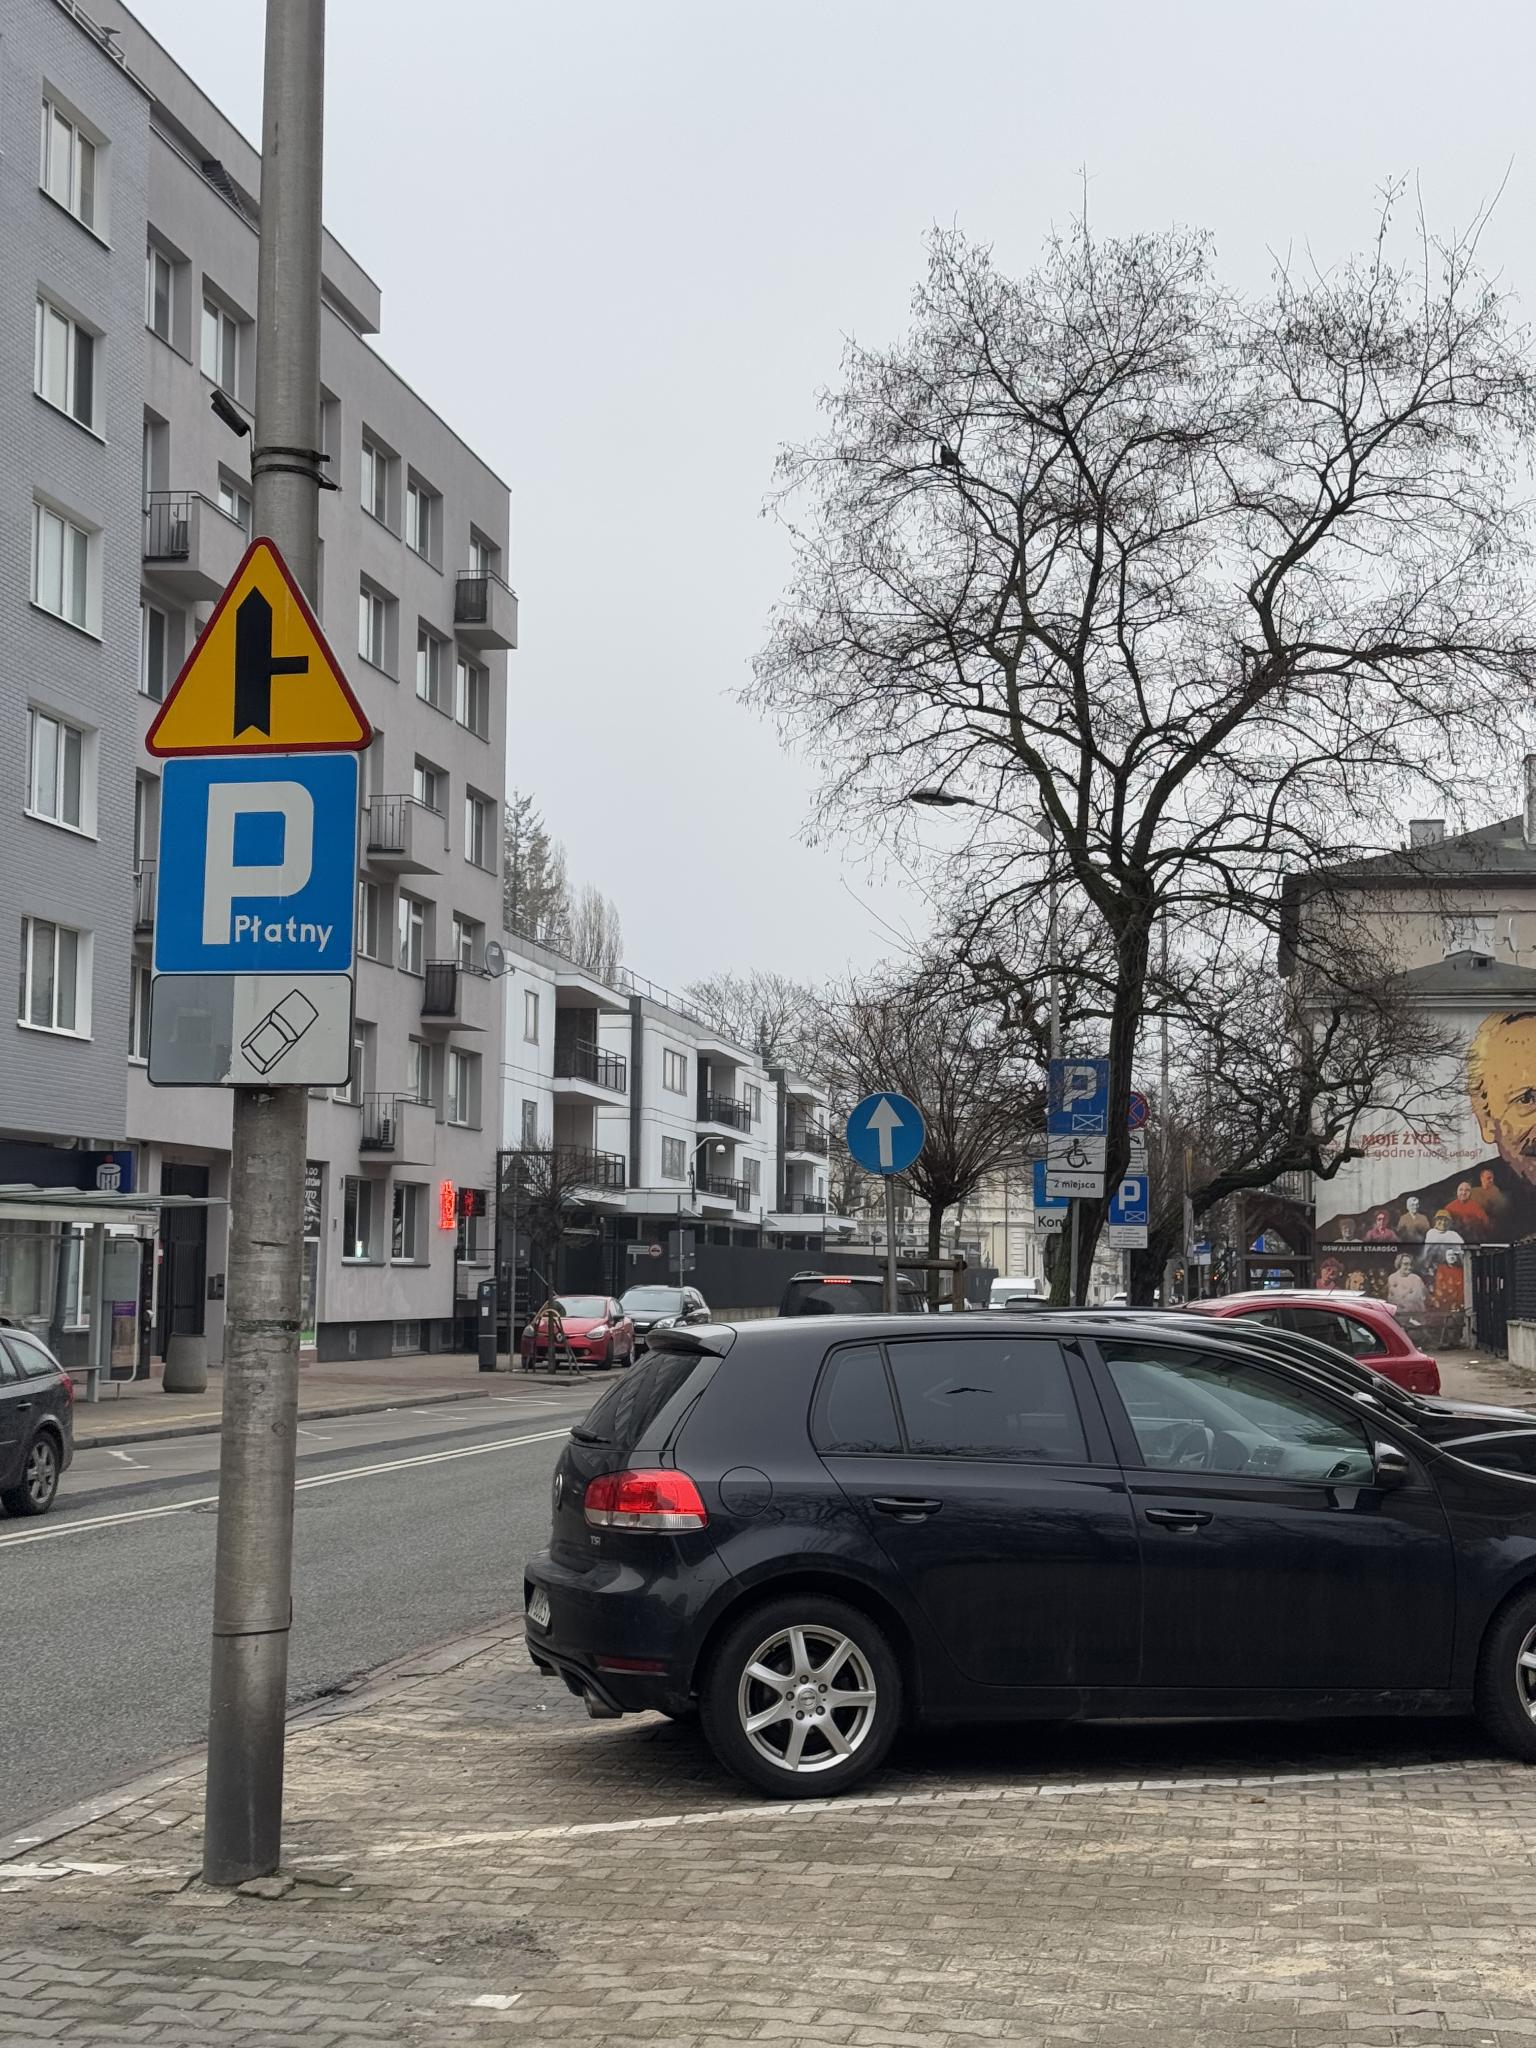information: (153, 755, 363, 972), (1047, 1058, 1108, 1135), (1108, 1176, 1149, 1224)
mandatory: (845, 1092, 928, 1177)
other: (147, 972, 360, 1087), (1046, 1135, 1107, 1172), (1046, 1172, 1105, 1198), (1108, 1226, 1147, 1248), (1036, 1208, 1068, 1232), (1126, 1151, 1147, 1176), (1129, 1132, 1144, 1148)
prohibitory: (1128, 1092, 1150, 1130)
warning: (142, 534, 376, 758)
